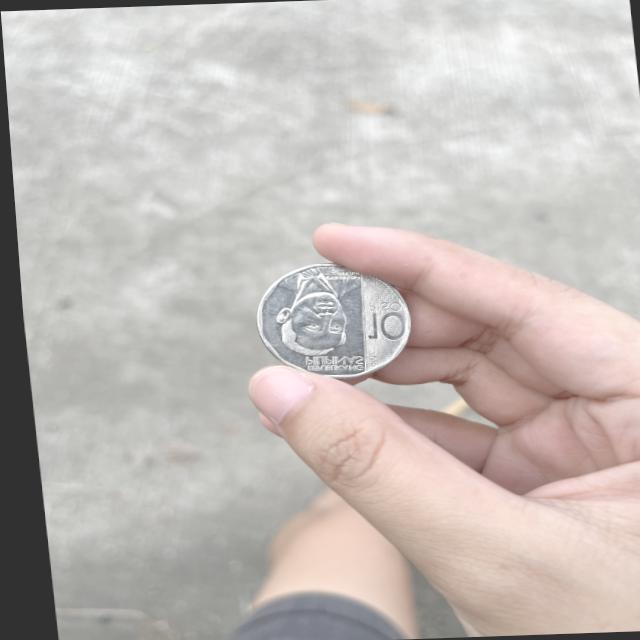10_New_Front: (360, 297, 404, 348)
